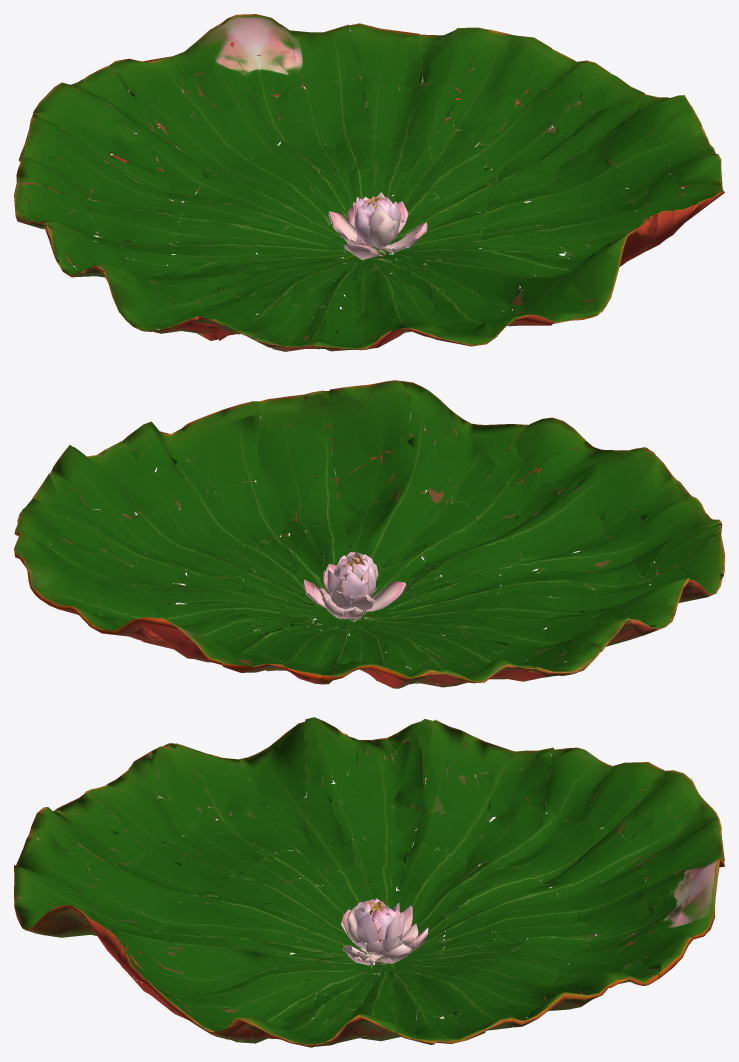
File: lily_pad_realistic.glb
3 views of the same model, one above another, from view 1: azimuth 30°, elevation 25°; view 2: azimuth 150°, elevation 25°; view 3: azimuth 270°, elevation 25° (orthographic). The views are drawn at different scales.
Visible parts, largest first — view 1: Mesh_0; view 2: Mesh_0; view 3: Mesh_0.
Boxes of the visible parts, <box> form: Mesh_0: <box>14,14,724,351</box>; Mesh_0: <box>14,380,724,688</box>; Mesh_0: <box>14,717,724,1047</box>.
Bounding box in the file's own units: 1.9 × 0.3421 × 1.85.
Materials: 1 (1 with a texture image).
